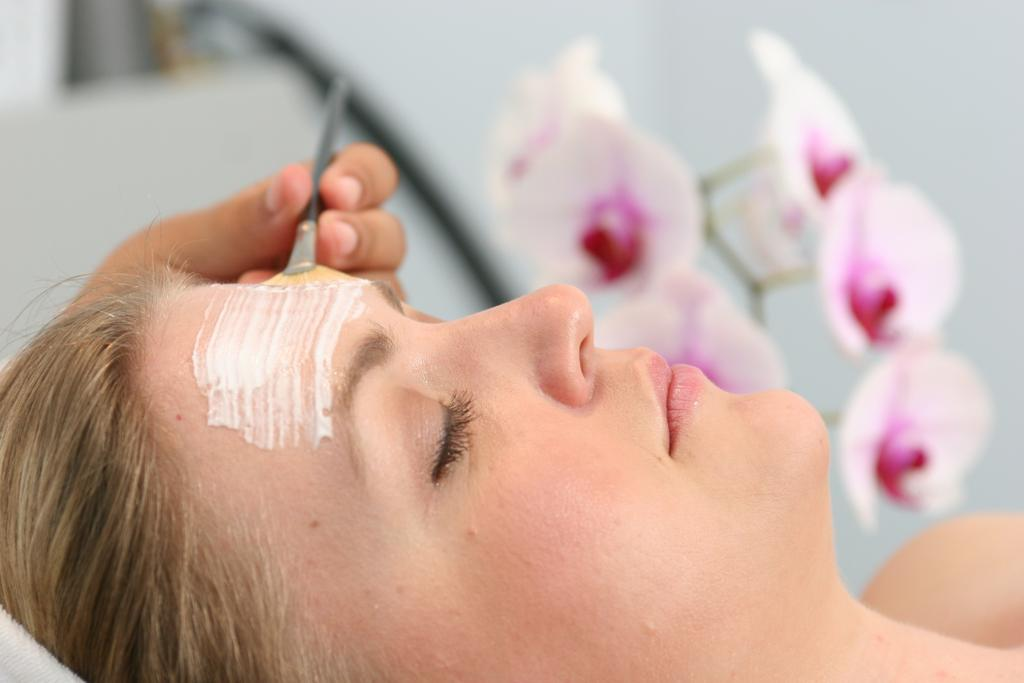face: (152, 280, 824, 592)
